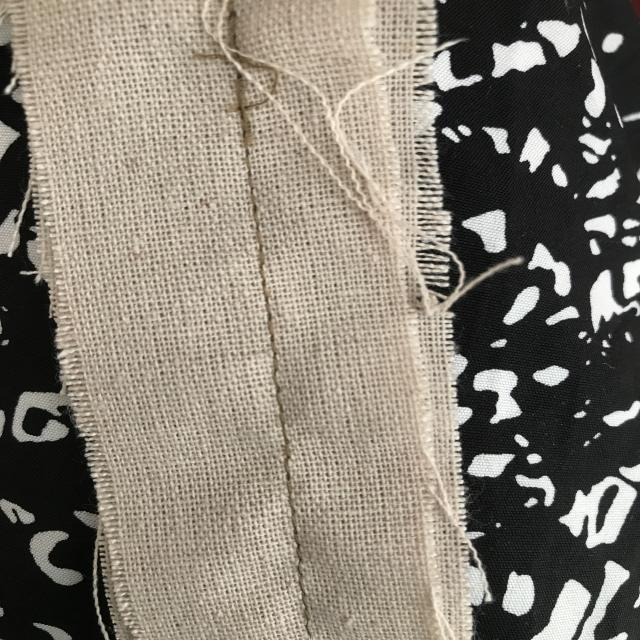good: (240, 262, 299, 369), (267, 486, 321, 595)
